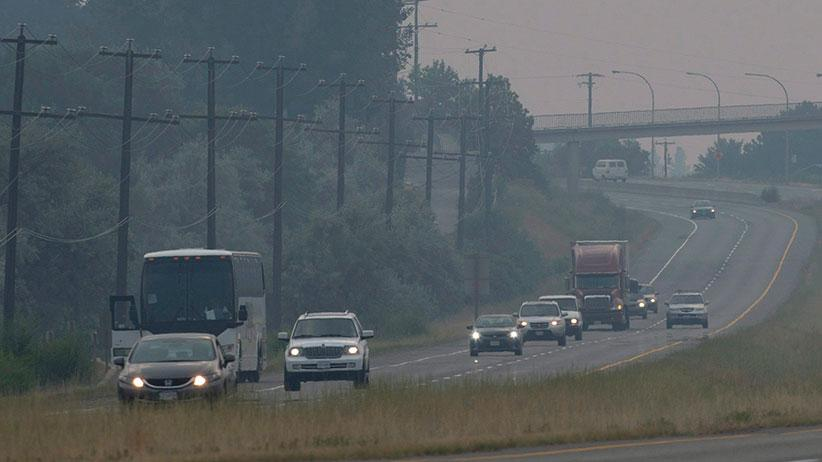bus: (113, 245, 273, 384), (116, 308, 249, 405), (190, 249, 273, 379), (99, 257, 167, 370), (567, 240, 638, 327), (221, 265, 268, 382), (581, 265, 655, 327), (94, 282, 139, 374), (545, 142, 612, 194), (109, 292, 151, 367), (576, 279, 633, 331), (467, 312, 527, 359), (540, 296, 584, 341), (516, 303, 565, 342), (666, 290, 708, 331), (539, 302, 568, 347), (617, 139, 652, 176), (629, 283, 660, 316), (591, 157, 628, 184), (690, 200, 717, 221)
car: (22, 320, 233, 428), (116, 292, 257, 399), (116, 333, 234, 406), (281, 311, 373, 393), (169, 328, 254, 399), (569, 245, 637, 331), (113, 319, 190, 394), (221, 284, 268, 385), (504, 144, 590, 198), (209, 325, 273, 393), (543, 142, 619, 193), (563, 278, 628, 336), (291, 310, 367, 359), (484, 305, 558, 353), (583, 277, 659, 323), (109, 291, 152, 367), (637, 283, 706, 327), (467, 313, 527, 359), (215, 314, 254, 379), (515, 301, 567, 346), (568, 152, 628, 188), (552, 151, 595, 197), (541, 296, 584, 341), (627, 264, 662, 317), (580, 296, 629, 331), (666, 291, 709, 330), (629, 286, 672, 325), (571, 297, 613, 336), (116, 332, 162, 366), (210, 343, 236, 402), (496, 313, 530, 358), (201, 333, 243, 369), (607, 285, 654, 317), (237, 324, 262, 384), (218, 333, 246, 384), (602, 292, 641, 327), (644, 286, 686, 317), (212, 328, 238, 378), (514, 306, 544, 347), (518, 299, 564, 325), (219, 340, 258, 370), (547, 302, 572, 344), (565, 290, 587, 337), (539, 296, 579, 321), (540, 310, 567, 347), (355, 328, 374, 378), (582, 294, 616, 321), (592, 159, 628, 184), (525, 320, 563, 343), (557, 307, 582, 341), (610, 288, 630, 330), (538, 301, 562, 336), (555, 294, 579, 329), (624, 280, 647, 316), (627, 290, 654, 319), (636, 285, 659, 316), (620, 285, 638, 320), (221, 343, 237, 381), (792, 165, 822, 185), (476, 312, 517, 326), (690, 200, 717, 221), (536, 299, 569, 316), (512, 318, 528, 353), (223, 355, 237, 394), (628, 282, 651, 305), (528, 303, 561, 319), (550, 295, 581, 312), (217, 342, 236, 368), (550, 319, 566, 348), (665, 291, 695, 306), (518, 301, 547, 316), (678, 292, 709, 306), (638, 281, 658, 302), (566, 316, 582, 342), (556, 318, 570, 346), (626, 276, 640, 304), (644, 292, 659, 317), (649, 290, 664, 315), (539, 293, 573, 304), (517, 321, 530, 346), (633, 296, 647, 319), (632, 281, 655, 295), (761, 187, 780, 203), (276, 330, 290, 346), (112, 355, 127, 369)
cell phone: (118, 333, 233, 406)
cow: (761, 187, 780, 203)
fire hydrant: (550, 320, 566, 348)
motorcycle: (580, 296, 629, 331), (610, 289, 630, 330)
person: (122, 322, 239, 401), (283, 311, 369, 394), (567, 239, 636, 329), (518, 301, 567, 347), (549, 142, 589, 195), (549, 296, 587, 343), (538, 297, 573, 346), (238, 323, 262, 383), (218, 333, 246, 384), (228, 310, 251, 370), (596, 290, 630, 330), (125, 305, 152, 347), (146, 291, 174, 329), (241, 306, 265, 350), (615, 285, 640, 327), (217, 302, 242, 343), (610, 277, 639, 312), (558, 307, 583, 346), (233, 304, 254, 349), (251, 321, 267, 377), (114, 301, 140, 335), (210, 297, 234, 331), (605, 282, 626, 318), (629, 279, 651, 313), (246, 320, 262, 366), (228, 302, 249, 337), (610, 288, 628, 328), (238, 321, 259, 355), (196, 295, 221, 321), (624, 276, 643, 310), (549, 314, 567, 348), (204, 296, 228, 320), (513, 321, 529, 355), (638, 289, 657, 317), (146, 294, 161, 325), (217, 305, 232, 333), (566, 316, 582, 342), (242, 318, 257, 345), (252, 320, 265, 349), (609, 288, 625, 311), (214, 301, 232, 321), (233, 333, 244, 365), (556, 321, 569, 348), (169, 344, 190, 360), (247, 321, 262, 343), (119, 310, 137, 328), (203, 300, 218, 321), (628, 275, 640, 298), (572, 289, 585, 310), (277, 331, 290, 352), (161, 345, 178, 360), (236, 305, 248, 326)
train: (567, 239, 636, 329), (545, 141, 613, 190), (109, 292, 152, 366)
truck: (116, 292, 257, 399), (118, 333, 236, 407), (492, 127, 613, 191), (281, 311, 373, 393), (569, 240, 638, 330), (586, 244, 662, 319), (550, 138, 637, 188), (563, 278, 628, 336), (531, 143, 609, 191), (583, 277, 659, 323), (109, 293, 151, 368), (637, 283, 706, 327), (601, 253, 643, 322), (474, 309, 535, 356), (588, 270, 633, 333), (599, 137, 654, 184), (620, 256, 656, 319), (515, 302, 567, 345), (568, 152, 628, 188), (548, 141, 589, 193), (541, 296, 584, 341), (588, 147, 640, 183), (591, 294, 644, 326), (666, 291, 709, 330), (566, 142, 601, 189), (571, 297, 613, 336), (582, 295, 627, 331), (235, 324, 260, 384), (218, 333, 246, 384), (617, 139, 652, 176), (518, 299, 564, 325), (617, 286, 651, 320), (628, 285, 660, 317), (539, 296, 579, 321), (605, 288, 628, 330), (583, 293, 613, 323), (592, 160, 628, 184), (610, 285, 634, 321), (557, 307, 582, 341), (792, 165, 822, 185), (690, 200, 717, 221), (636, 292, 654, 317), (617, 138, 639, 152), (761, 187, 780, 203)
